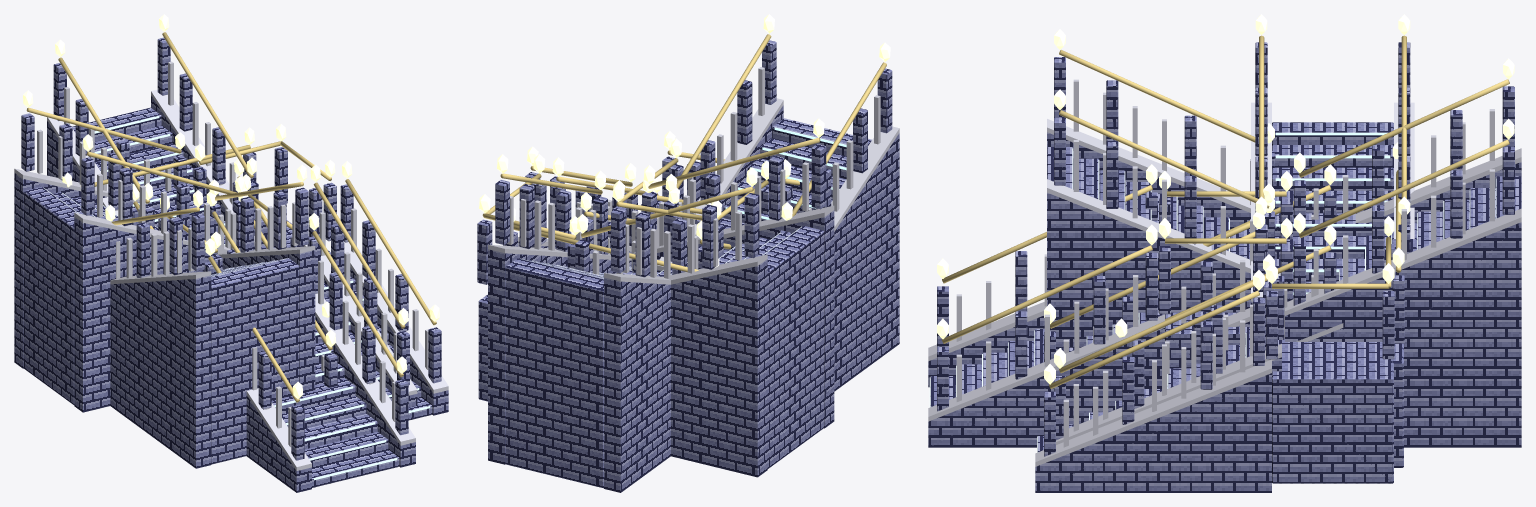
Rendered from ST14-fantasy.glb.
3 renders of one model, left to right at view 1: azimuth 30°, elevation 25°; view 2: azimuth 150°, elevation 25°; view 3: azimuth 270°, elevation 25°, orthographic. The views are drawn at different scales.
Visible parts, largest first — view 1: stair__ST14__U__fantasy, stair__ST14__L__fantasy, stair__ST14__straight-landing__fantasy, stair__ST14__straight__fantasy; view 2: stair__ST14__straight-landing__fantasy, stair__ST14__L__fantasy, stair__ST14__U__fantasy, stair__ST14__straight__fantasy; view 3: stair__ST14__straight-landing__fantasy, stair__ST14__L__fantasy, stair__ST14__U__fantasy, stair__ST14__straight__fantasy.
Part boxes in pixels (x1,y1,x2,y2): stair__ST14__U__fantasy: (62,127,417,468); stair__ST14__L__fantasy: (14,90,448,420); stair__ST14__straight-landing__fantasy: (47,14,415,492); stair__ST14__straight__fantasy: (132,159,329,317); stair__ST14__straight-landing__fantasy: (488,131,799,492); stair__ST14__L__fantasy: (477,118,834,477); stair__ST14__U__fantasy: (503,14,899,391); stair__ST14__straight__fantasy: (580,192,731,273); stair__ST14__straight-landing__fantasy: (928,58,1521,447); stair__ST14__L__fantasy: (1035,14,1414,492); stair__ST14__U__fantasy: (1047,29,1404,467); stair__ST14__straight__fantasy: (1115,164,1343,385).
Size of the model in its own units: 4.34 by 4.12 by 6.82.
5 materials, 1 textured.
